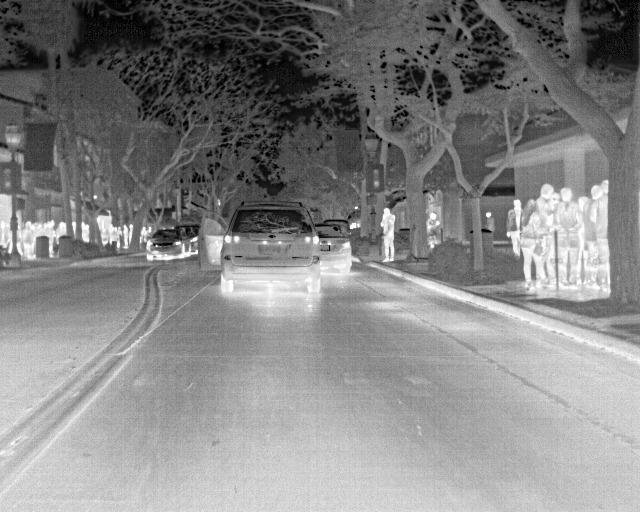bicycle: (219, 197, 323, 294), (312, 221, 355, 272), (143, 229, 188, 265)
empty: (588, 178, 612, 290), (554, 184, 577, 287), (580, 184, 602, 287), (536, 182, 557, 286), (521, 201, 539, 293), (380, 206, 399, 267), (507, 196, 522, 255), (425, 210, 444, 250), (480, 207, 495, 234), (120, 222, 132, 251)
